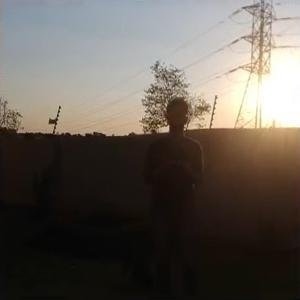follow: (139, 94, 207, 298)
